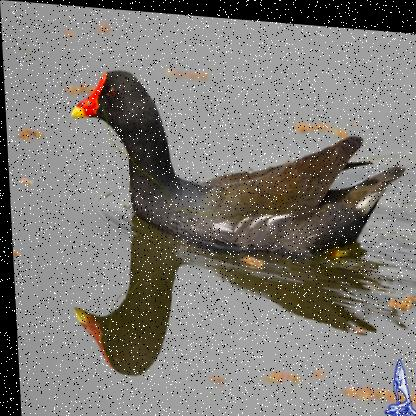Burung: (67, 65, 408, 258)
